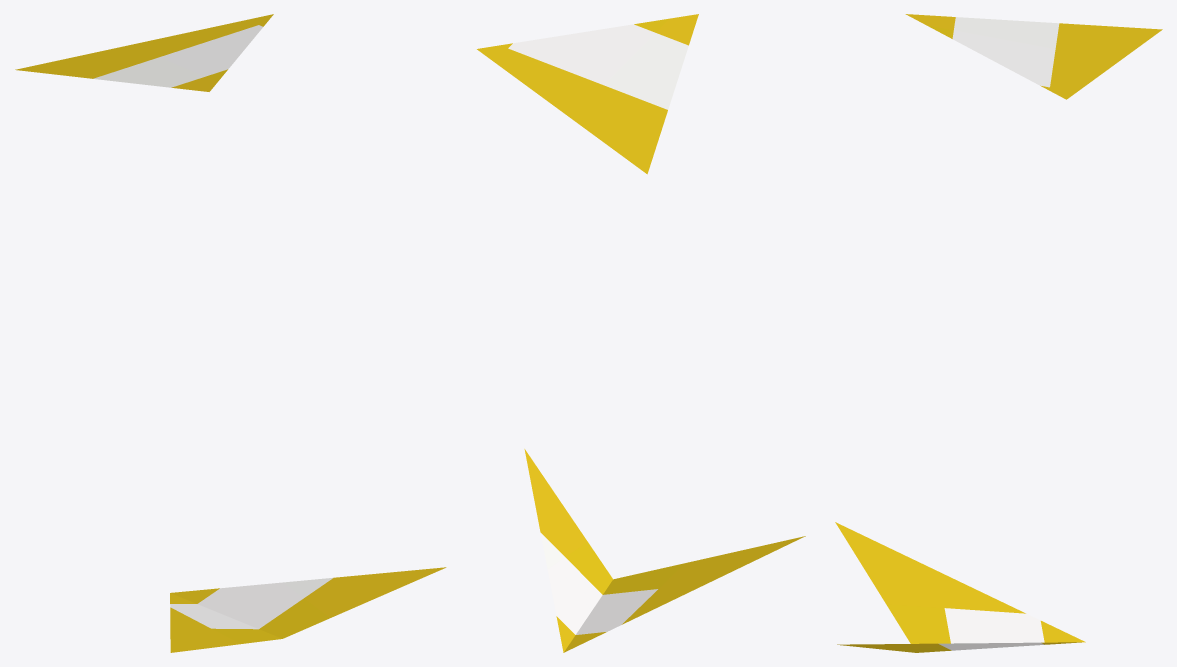
Rendered from mp-01287-geode.glb.
3 views of the same model, side by side, from view 1: azimuth 30°, elevation 25°; view 2: azimuth 150°, elevation 25°; view 3: azimuth 270°, elevation 25° (orthographic). The views are drawn at different scales.
Parts seen in each view (by area): view 1: Node; view 2: Node; view 3: Node.
Part boxes in pixels (x1=…): Node: x1=15, y1=14, x2=446, y2=652; Node: x1=477, y1=14, x2=805, y2=652; Node: x1=835, y1=14, x2=1162, y2=652.
Bounding box in the file's own units: 0.2176 × 0.4321 × 0.2126.
Materials: 1 (1 with a texture image).
